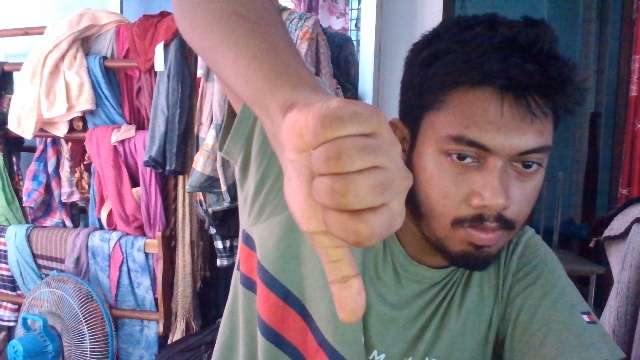no: (269, 79, 413, 329)
